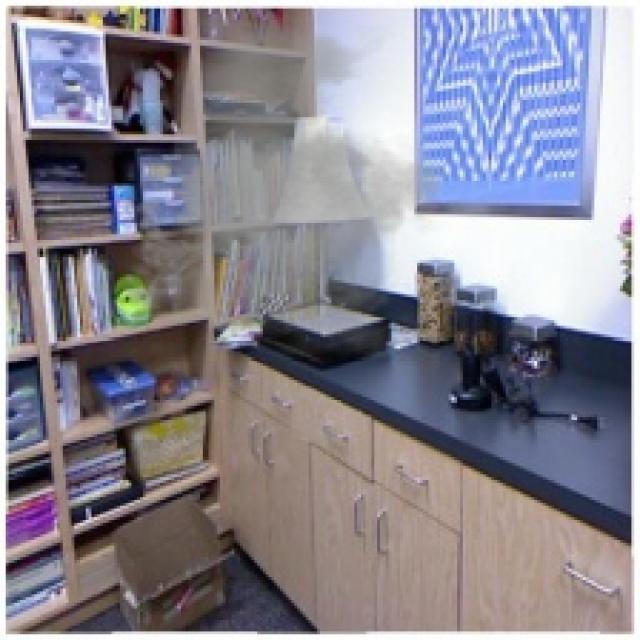Smoke: (112, 12, 457, 357)
